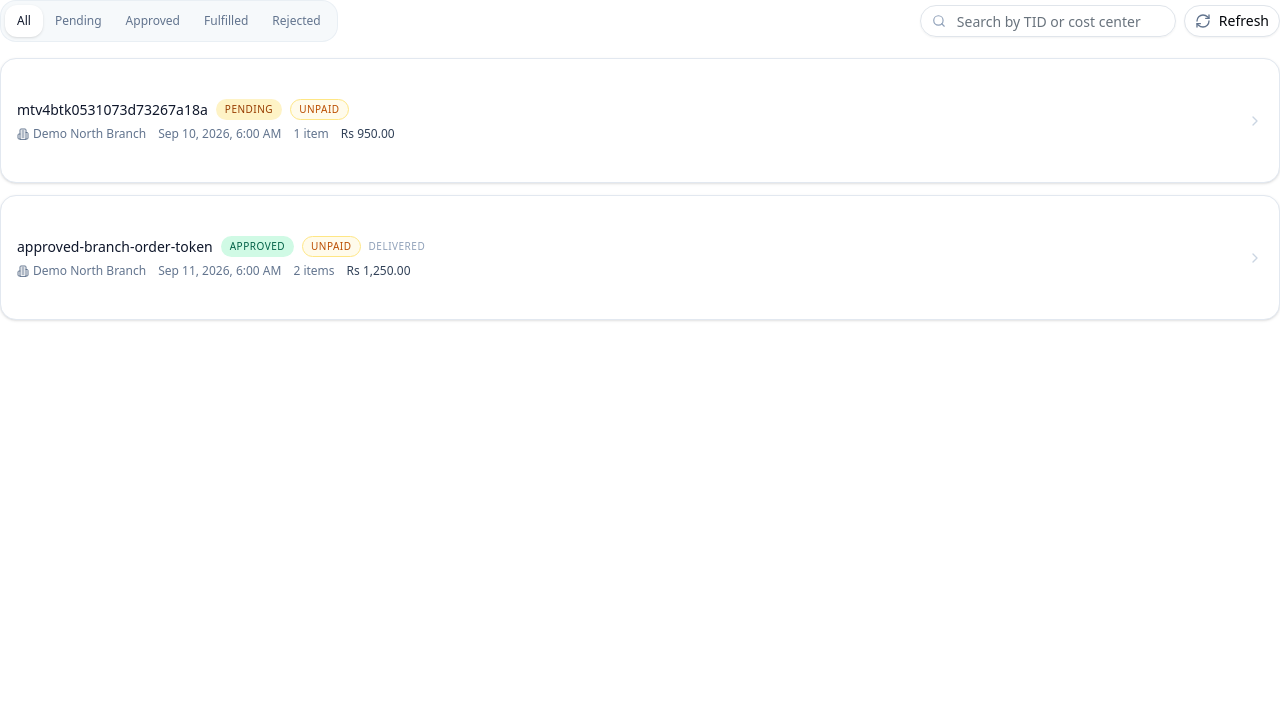
Test: OtherBranchOrders › lets the group requester hand off a visible approved branch order
Click the button "approved-branch-order-token": (115,246) [1,220,1279,295]
(page scrolled)
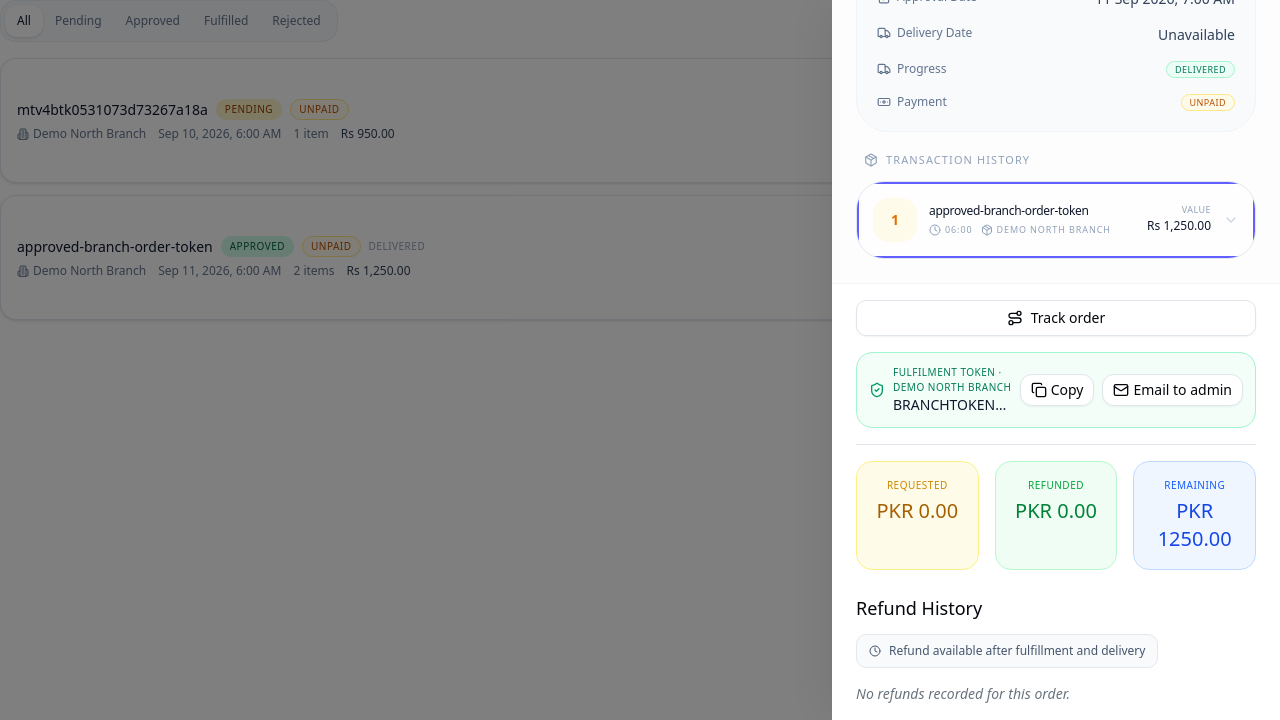
Expected: the text "BRANCHTOKEN1234" is shown, [893,394,1012,414]
Expected: the button "Email to admin" is shown, [1102,374,1243,406]
